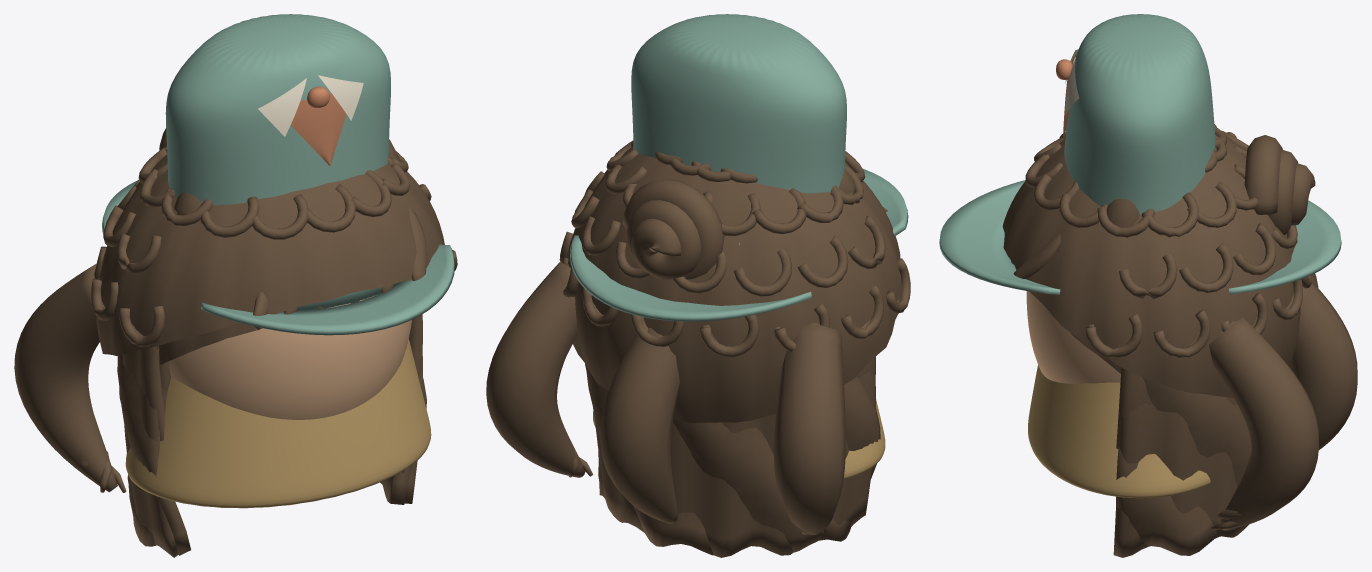
Rendered from cozy_child_parts.glb.
3 views of the same model, side by side, from view 1: azimuth 30°, elevation 25°; view 2: azimuth 150°, elevation 25°; view 3: azimuth 270°, elevation 25° (orthographic). The views are drawn at different scales.
Visible parts, largest first — view 1: Hair7, Shirt_Top_83a89a, DressSkirt_Skirt_c3a36c, Face_Skin_e1b68f, Hair6, CapForward_Top_83a89a, Hair9, Hair3, Neckerchief_Scarf_c58462, Hair4, PoloCollar_Canvas_e8deca, Hair0 (+1 smaller); view 2: Hair7, Shirt_Top_83a89a, Hair6, Hair9, Hair5, Hair3, Hair10, CapBackward_Top_83a89a, CapForward_Top_83a89a, DressSkirt_Skirt_c3a36c, HatHair6; view 3: Hair7, Shirt_Top_83a89a, Hair6, DressSkirt_Skirt_c3a36c, Hair9, Hair3, Hair5, CapForward_Top_83a89a, Hair10, Face_Skin_e1b68f, CapBackward_Top_83a89a, Hair4 (+2 smaller).
Boxes of the visible parts, x1,y1,x2,y2 form: Hair7: (91,146,457,355); Shirt_Top_83a89a: (165,14,390,205); DressSkirt_Skirt_c3a36c: (125,338,431,508); Face_Skin_e1b68f: (169,295,411,419); Hair6: (14,263,117,492); CapForward_Top_83a89a: (201,244,454,335); Hair9: (117,346,426,555); Hair3: (124,323,422,557); Neckerchief_Scarf_c58462: (290,86,346,165); Hair4: (122,314,422,440); PoloCollar_Canvas_e8deca: (258,75,363,136); Hair0: (173,207,426,341); Hair7: (559,140,910,422); Shirt_Top_83a89a: (631,14,846,193); Hair6: (486,262,845,534); Hair9: (585,363,880,555); Hair5: (600,327,680,523); Hair3: (595,371,875,557); Hair10: (622,179,724,279); CapBackward_Top_83a89a: (570,235,812,321); CapForward_Top_83a89a: (862,168,908,235); DressSkirt_Skirt_c3a36c: (593,399,885,479); HatHair6: (546,264,831,392); Hair7: (1002,124,1311,397); Shirt_Top_83a89a: (1064,14,1215,215); Hair6: (1209,273,1318,530); DressSkirt_Skirt_c3a36c: (1028,365,1210,498); Hair9: (1116,377,1251,555); Hair3: (1070,332,1248,557); Hair5: (1290,281,1357,449); CapForward_Top_83a89a: (939,180,1060,295); Hair10: (1244,135,1315,234); Face_Skin_e1b68f: (1026,291,1120,383); CapBackward_Top_83a89a: (1229,200,1341,294); Hair4: (1116,367,1152,448).
Size of the model in its own units: 0.8263 by 1.07 by 0.8658.
